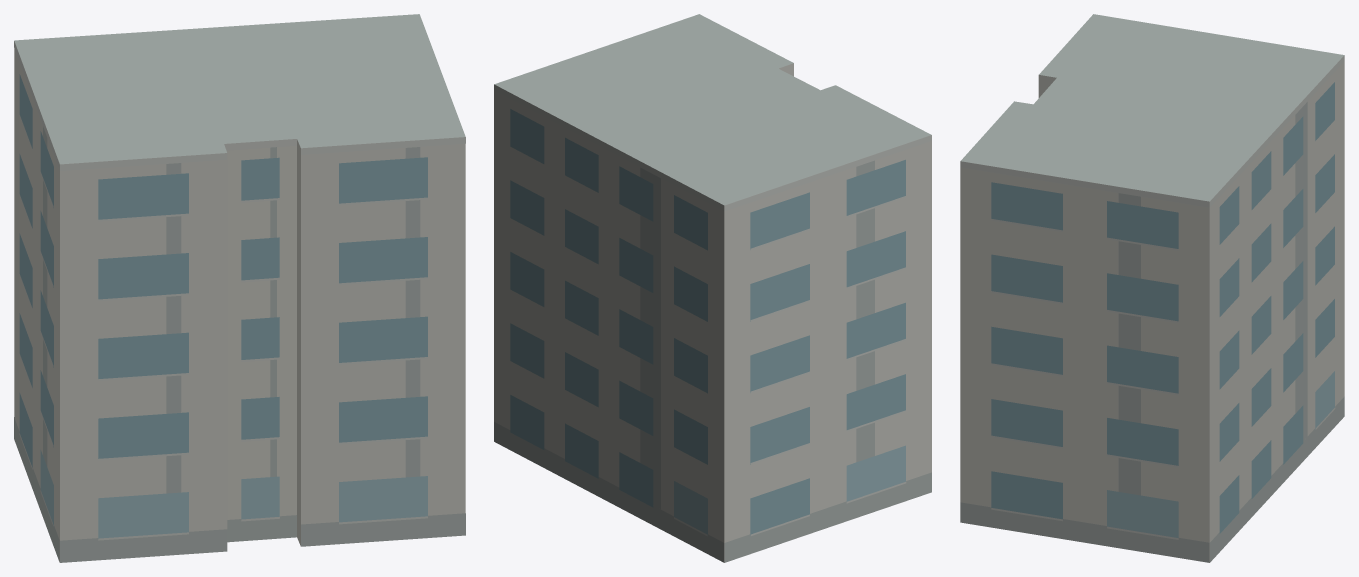
Rendered from survey-upis-32877244.glb.
The picture shows the model from 3 angles, left to right: view 1: azimuth 30°, elevation 25°; view 2: azimuth 150°, elevation 25°; view 3: azimuth 270°, elevation 25°; orthographic projection. The views are drawn at different scales.
Visible parts, largest first — view 1: survey-upis-32877244.tmp; view 2: survey-upis-32877244.tmp; view 3: survey-upis-32877244.tmp.
Boxes of the visible parts, x1,y1,x2,y2 form: survey-upis-32877244.tmp: (14,14,465,562); survey-upis-32877244.tmp: (494,14,931,562); survey-upis-32877244.tmp: (960,14,1344,562).
Bounding box in the file's own units: 15.82 × 14.2 × 13.7.
